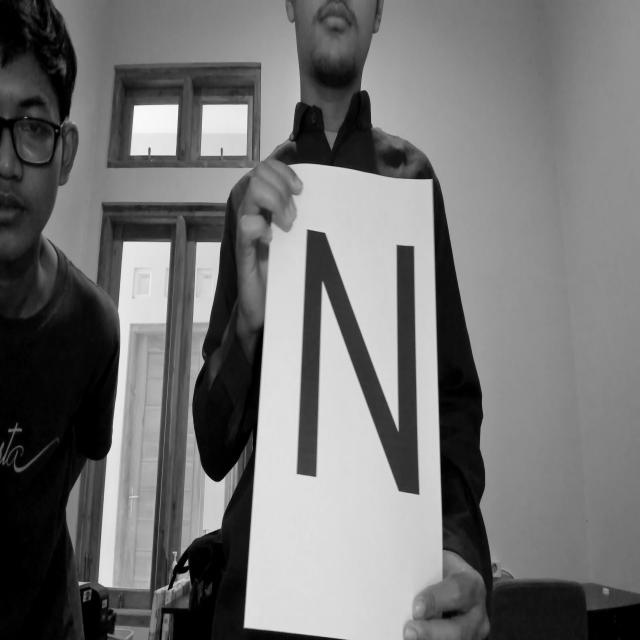n: (276, 219, 436, 511)
